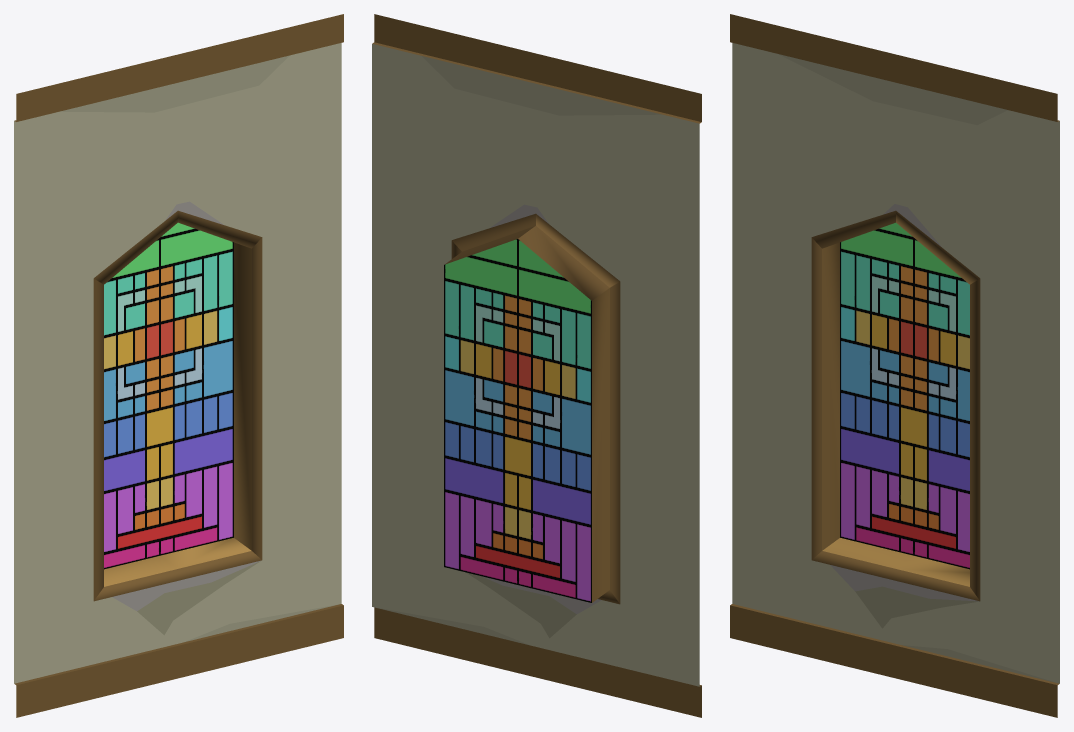
The model's file is AI_Env_Wall_Church_Window_Small.fbx.
3 renders of one model, left to right at view 1: azimuth 30°, elevation 25°; view 2: azimuth 150°, elevation 25°; view 3: azimuth 330°, elevation 25°, orthographic.
Parts seen in each view (by area): view 1: AI_Env_Wall_Church_Window_Small; view 2: AI_Env_Wall_Church_Window_Small; view 3: AI_Env_Wall_Church_Window_Small.
Part boxes in pixels (<box>): AI_Env_Wall_Church_Window_Small: <box>14,14,343,717</box>; AI_Env_Wall_Church_Window_Small: <box>372,14,701,717</box>; AI_Env_Wall_Church_Window_Small: <box>730,14,1059,717</box>.
Bounding box in the file's own units: 5 × 9.1 × 0.5299.
